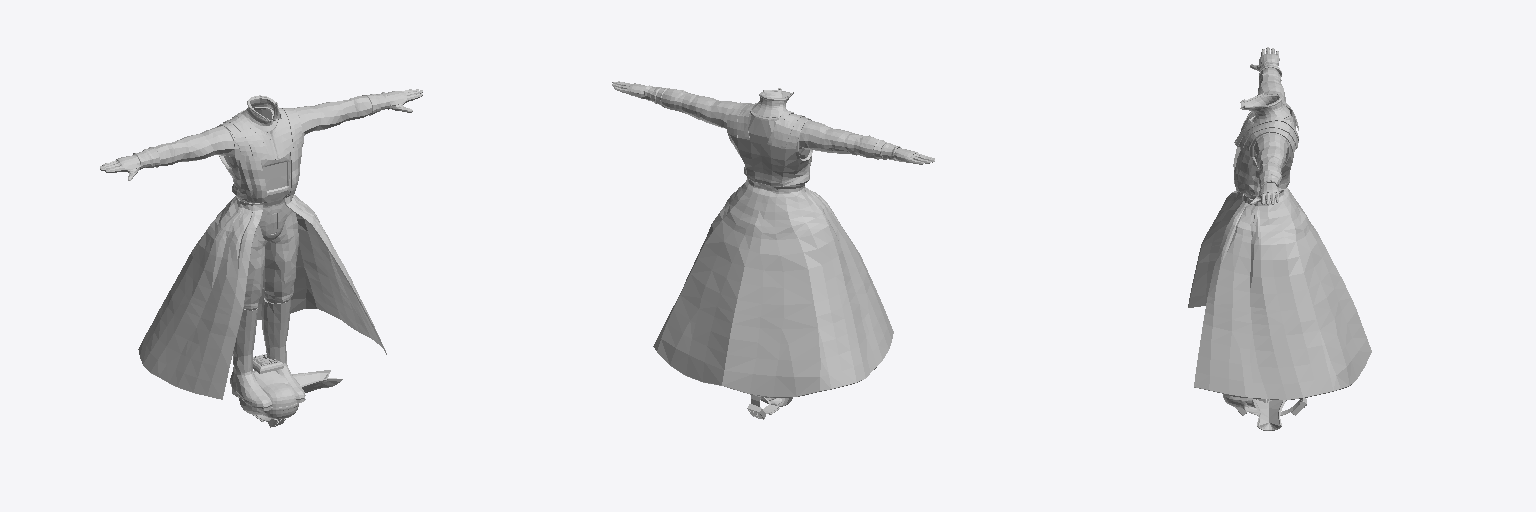
Rendered from R_ALL_12a_360.obj.
The picture shows the model from 3 angles: view 1: azimuth 30°, elevation 25°; view 2: azimuth 150°, elevation 25°; view 3: azimuth 270°, elevation 25°; orthographic projection.
Parts seen in each view (by area): view 1: facemask_009_geo, facemask_005_geo, facemask_008_geo, facemask_002_geo, facemask_010_geo, facemask_006_geo, ATAMA_003_geo, facemask_011_geo, facemask_004_geo, facemask_001_geo, facemask_007_geo, facemask_003_geo (+1 smaller); view 2: facemask_009_geo, facemask_006_geo, facemask_002_geo, facemask_010_geo, facemask_001_geo, facemask_004_geo, facemask_003_geo; view 3: facemask_009_geo, facemask_002_geo, facemask_006_geo, facemask_010_geo, facemask_001_geo, facemask_004_geo.
Part boxes in pixels (bbox=[...]): facemask_009_geo: bbox=[138, 195, 386, 399]; facemask_005_geo: bbox=[230, 298, 305, 411]; facemask_008_geo: bbox=[236, 197, 298, 310]; facemask_002_geo: bbox=[154, 96, 371, 165]; facemask_010_geo: bbox=[217, 108, 301, 159]; facemask_006_geo: bbox=[219, 109, 303, 203]; ATAMA_003_geo: bbox=[239, 371, 298, 418]; facemask_011_geo: bbox=[224, 107, 290, 202]; facemask_004_geo: bbox=[100, 89, 422, 180]; facemask_001_geo: bbox=[241, 95, 281, 130]; facemask_007_geo: bbox=[258, 203, 292, 240]; facemask_003_geo: bbox=[133, 92, 390, 169]; facemask_009_geo: bbox=[653, 178, 893, 397]; facemask_006_geo: bbox=[728, 107, 812, 189]; facemask_002_geo: bbox=[661, 89, 878, 158]; facemask_010_geo: bbox=[727, 102, 811, 148]; facemask_001_geo: bbox=[752, 88, 793, 117]; facemask_004_geo: bbox=[612, 81, 934, 164]; facemask_003_geo: bbox=[644, 85, 900, 160]; facemask_009_geo: bbox=[1188, 188, 1371, 400]; facemask_002_geo: bbox=[1254, 67, 1288, 176]; facemask_006_geo: bbox=[1233, 105, 1295, 198]; facemask_010_geo: bbox=[1234, 100, 1298, 152]; facemask_001_geo: bbox=[1240, 93, 1289, 122]; facemask_004_geo: bbox=[1250, 47, 1279, 205].
Size of the model in its own units: 2.04 by 1.93 by 1.01.